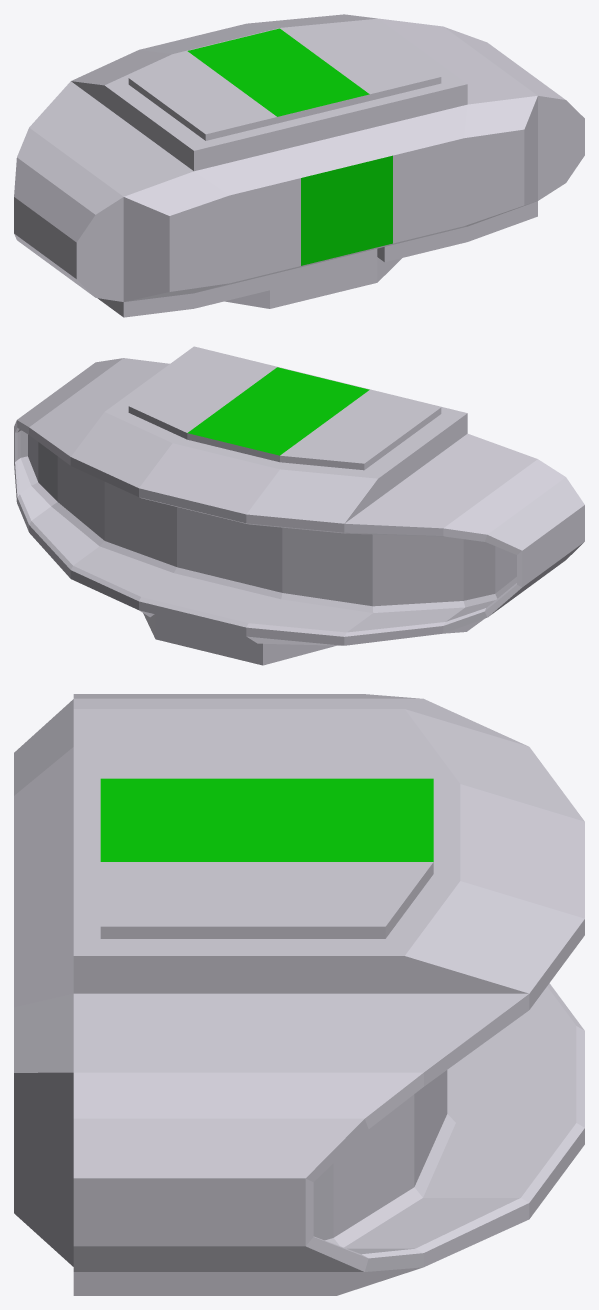
Rendered from eng.body.wide_mouth.fbx.
The picture shows the model from 3 angles, top to bottom: view 1: azimuth 30°, elevation 25°; view 2: azimuth 150°, elevation 25°; view 3: azimuth 270°, elevation 25°; orthographic projection. The views are drawn at different scales.
Visible parts, largest first — view 1: eng.body.wide_mouth; view 2: eng.body.wide_mouth; view 3: eng.body.wide_mouth.
Boxes of the visible parts, left/top/right/bottom form: eng.body.wide_mouth: left=14, top=14, right=584, bottom=317; eng.body.wide_mouth: left=14, top=346, right=584, bottom=665; eng.body.wide_mouth: left=14, top=694, right=584, bottom=1295.
Bounding box in the file's own units: 4.76 × 1.7 × 2.51.
